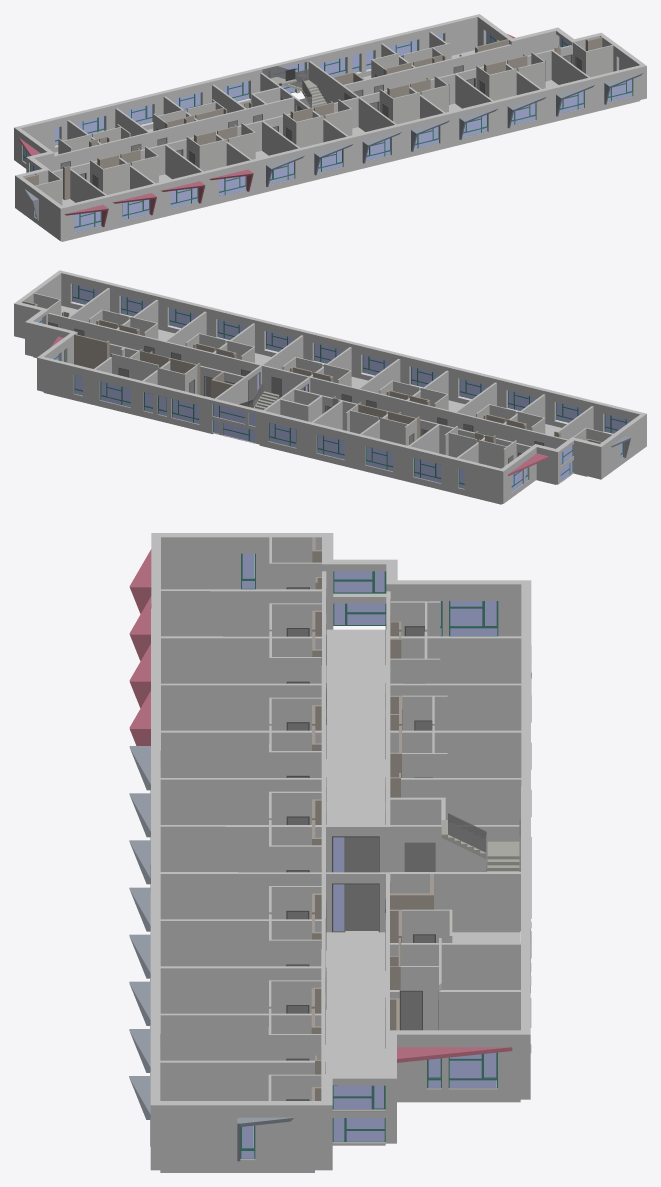
File: floor3_o2.glb
3 views of the same model, one above another, from view 1: azimuth 30°, elevation 25°; view 2: azimuth 150°, elevation 25°; view 3: azimuth 270°, elevation 25° (orthographic). The views are drawn at different scales.
Visible parts, largest first — view 1: IfcWallStandardCase/ARVS-02.018, IfcWallStandardCase/AR.035, IfcWindow/ARA.174, IfcWallStandardCase/ARSS-03.049, IfcWall/ARSEIN - 018.045, IfcDoor/ARSU.122, IfcWall/ARSEIN - 018.026, IfcBuildingElementProxy/Sisekäsipuu.003, IfcStairFlight/ARSS - 035.003; view 2: IfcWallStandardCase/ARVS-02.018, IfcWindow/ARA.174, IfcWallStandardCase/AR.035, IfcWallStandardCase/ARSS-03.049, IfcDoor/ARSU.122; view 3: IfcWallStandardCase/ARVS-02.018, IfcWallStandardCase/AR.035, IfcWindow/ARA.174, IfcDoor/ARSU.122, IfcWallStandardCase/ARSS-03.049, IfcWall/ARSEIN - 018.045, IfcWall/ARSEIN - 018.026, IfcStairFlight/ARSS - 035.003, IfcBuildingElementProxy/Sisekäsipuu.003.
Part boxes in pixels (box(x1,y1,x2,y2)): IfcWallStandardCase/ARVS-02.018: box(14, 14, 646, 241); IfcWallStandardCase/AR.035: box(35, 42, 613, 205); IfcWindow/ARA.174: box(22, 31, 633, 232); IfcWallStandardCase/ARSS-03.049: box(24, 37, 602, 199); IfcWall/ARSEIN - 018.045: box(25, 73, 643, 220); IfcDoor/ARSU.122: box(60, 54, 581, 188); IfcWall/ARSEIN - 018.026: box(18, 34, 515, 226); IfcBuildingElementProxy/Sisekäsipuu.003: box(262, 66, 312, 107); IfcStairFlight/ARSS - 035.003: box(270, 77, 326, 107); IfcWallStandardCase/ARVS-02.018: box(14, 270, 646, 504); IfcWindow/ARA.174: box(37, 284, 630, 492); IfcWallStandardCase/AR.035: box(33, 293, 612, 468); IfcWallStandardCase/ARSS-03.049: box(22, 301, 601, 443); IfcDoor/ARSU.122: box(48, 322, 544, 463); IfcWallStandardCase/ARVS-02.018: box(150, 533, 531, 1172); IfcWallStandardCase/AR.035: box(268, 537, 452, 1100); IfcWindow/ARA.174: box(150, 553, 531, 1160); IfcDoor/ARSU.122: box(286, 587, 438, 1100); IfcWallStandardCase/ARSS-03.049: box(311, 537, 433, 1100); IfcWall/ARSEIN - 018.045: box(129, 746, 294, 1161); IfcWall/ARSEIN - 018.026: box(129, 549, 512, 1062); IfcStairFlight/ARSS - 035.003: box(441, 820, 519, 871); IfcBuildingElementProxy/Sisekäsipuu.003: box(448, 813, 520, 871).
Bounding box in the file's own units: 64.42 × 4.8 × 18.77.
